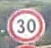limite 30: (5, 7, 46, 43)
